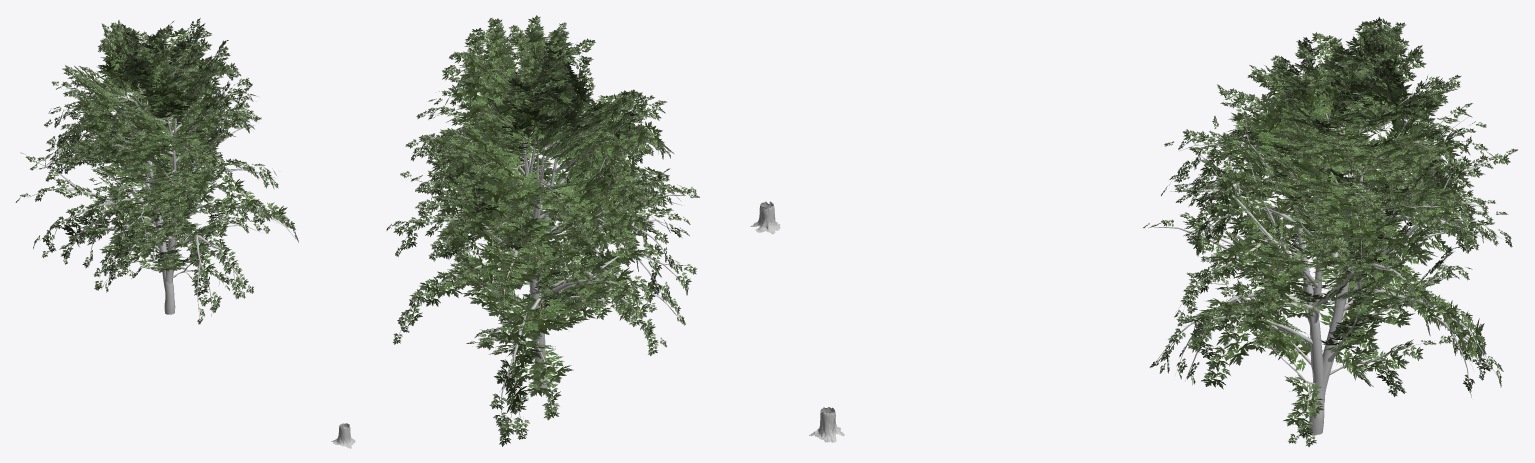
The model's file is CutTree.fbx.
The picture shows the model from 3 angles, left to right: view 1: azimuth 30°, elevation 25°; view 2: azimuth 150°, elevation 25°; view 3: azimuth 270°, elevation 25°; orthographic projection. The views are drawn at different scales.
Parts seen in each view (by area): view 1: MapleTreeLOD0, MapleTreeLOD0.001; view 2: MapleTreeLOD0, MapleTreeLOD0.001; view 3: MapleTreeLOD0.
Boxes of the visible parts, bbox=[...] form: MapleTreeLOD0: bbox=[15, 18, 298, 324]; MapleTreeLOD0.001: bbox=[331, 423, 355, 448]; MapleTreeLOD0: bbox=[386, 15, 699, 446]; MapleTreeLOD0.001: bbox=[750, 201, 780, 234]; MapleTreeLOD0: bbox=[1143, 17, 1517, 446].
Size of the model in its own units: 1276 by 1588 by 2542.
